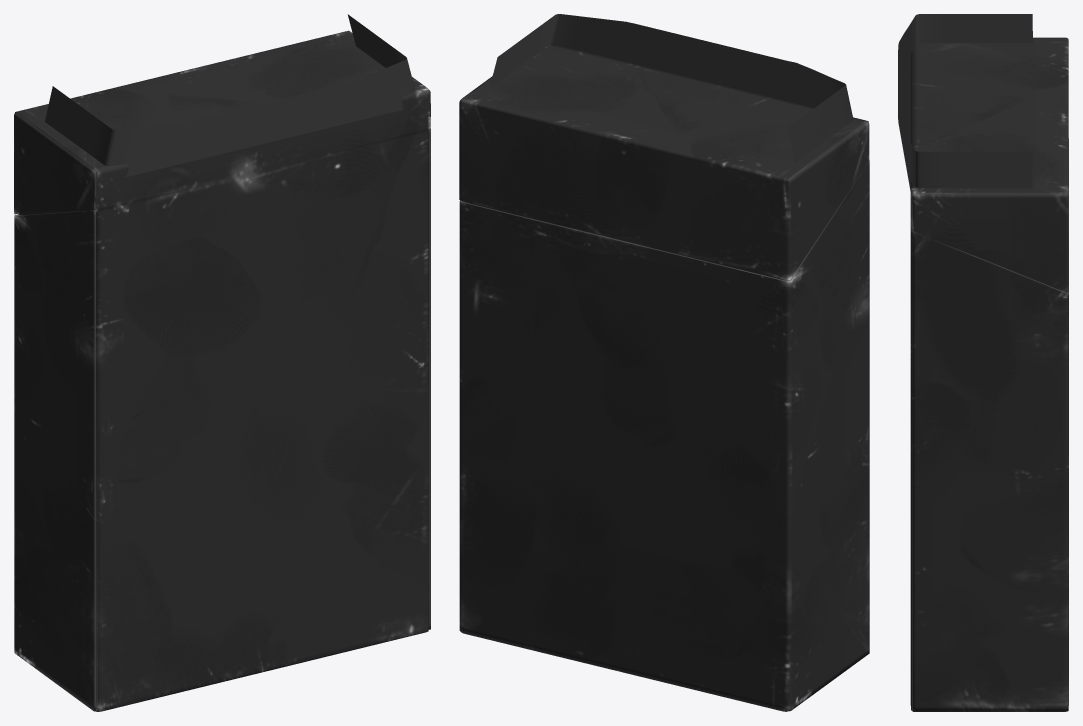
Rendered from cigarette_pack.glb.
3 views of the same model, side by side, from view 1: azimuth 30°, elevation 25°; view 2: azimuth 150°, elevation 25°; view 3: azimuth 270°, elevation 25° (orthographic). The views are drawn at different scales.
Visible parts, largest first — view 1: cigarette_pack_main, cigarette_pack_foil; view 2: cigarette_pack_main, cigarette_pack_foil; view 3: cigarette_pack_main, cigarette_pack_foil.
Boxes of the visible parts, left/top/right/bottom form: cigarette_pack_main: left=14, top=30, right=430, bottom=711; cigarette_pack_foil: left=45, top=14, right=415, bottom=177; cigarette_pack_main: left=459, top=45, right=869, bottom=711; cigarette_pack_foil: left=489, top=14, right=853, bottom=163; cigarette_pack_main: left=910, top=37, right=1068, bottom=711; cigarette_pack_foil: left=898, top=14, right=1032, bottom=190.
Bounding box in the file's own units: 0.0556 × 0.0911 × 0.0255.
Materials: 1 (1 with a texture image).
